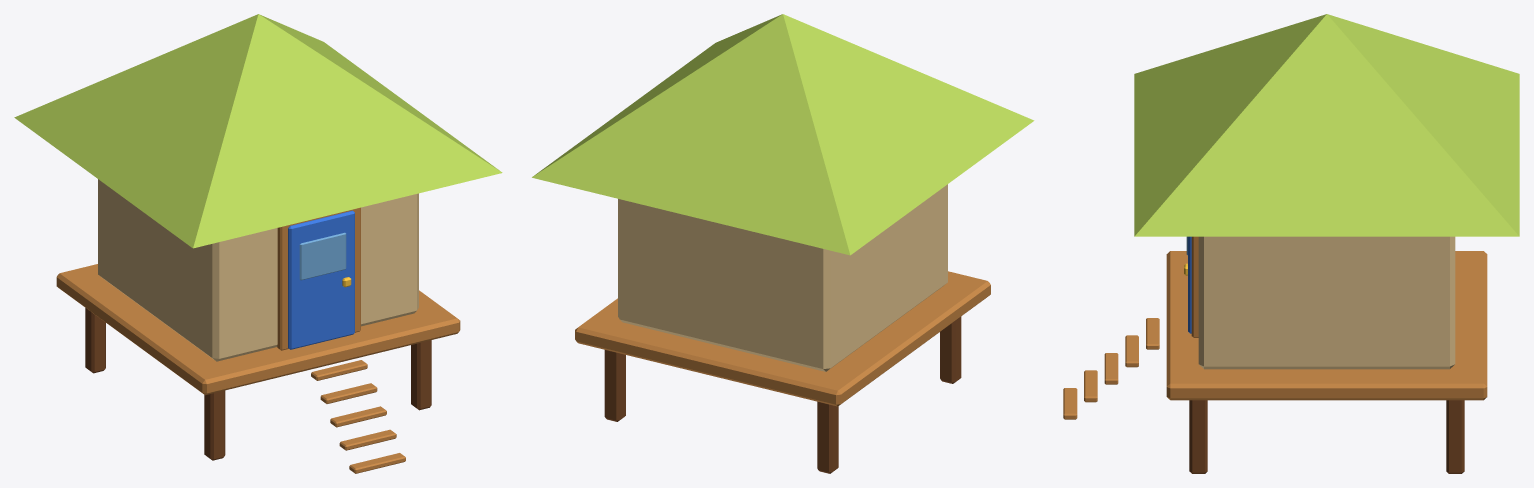
The model's file is BeachHut.fbx.
3 views of the same model, side by side, from view 1: azimuth 30°, elevation 25°; view 2: azimuth 150°, elevation 25°; view 3: azimuth 270°, elevation 25° (orthographic). The views are drawn at different scales.
Visible parts, largest first — view 1: BeachHut; view 2: BeachHut; view 3: BeachHut.
Boxes of the visible parts, x1,y1,x2,y2 form: BeachHut: [14, 14, 502, 473]; BeachHut: [532, 14, 1034, 473]; BeachHut: [1063, 14, 1519, 473].
Bounding box in the file's own units: 8.4 × 9.7 × 9.95.
1 material, 1 textured.
